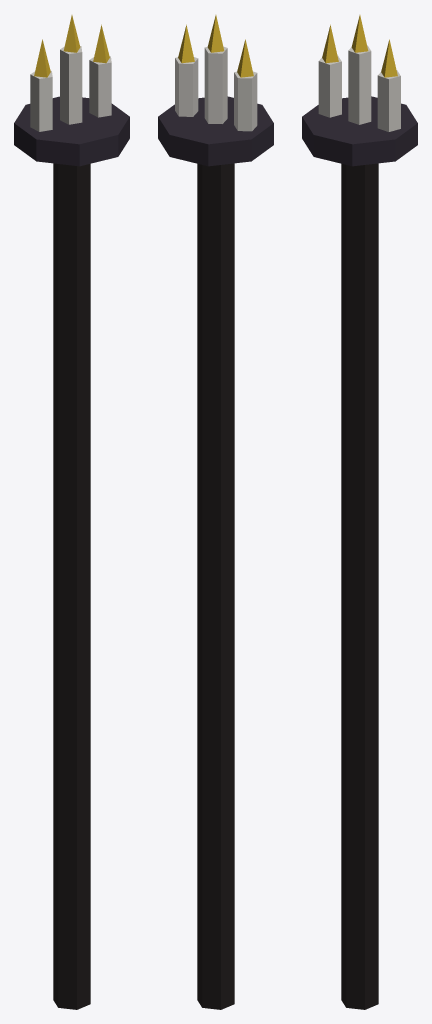
Rendered from gear_candle_staff.glb.
3 views of the same model, side by side, from view 1: azimuth 30°, elevation 25°; view 2: azimuth 150°, elevation 25°; view 3: azimuth 330°, elevation 25° (orthographic).
Parts seen in each view (by area): view 1: gear_candle_staff; view 2: gear_candle_staff; view 3: gear_candle_staff.
Part boxes in pixels (bbox=[...]): gear_candle_staff: bbox=[14, 15, 129, 1009]; gear_candle_staff: bbox=[158, 15, 273, 1009]; gear_candle_staff: bbox=[302, 15, 417, 1009].
Size of the model in its own units: 0.133 by 1.34 by 0.133.
